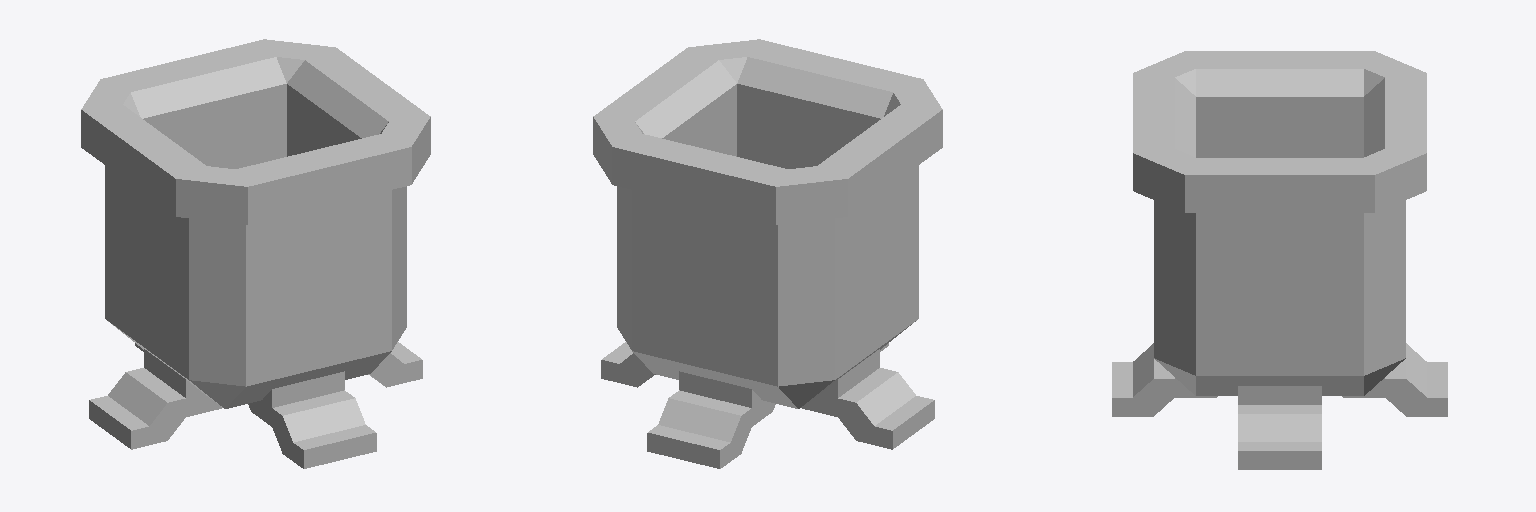
File: coloring_cauldron.obj
3 renders of one model, left to right at view 1: azimuth 30°, elevation 25°; view 2: azimuth 150°, elevation 25°; view 3: azimuth 270°, elevation 25°, orthographic.
Visible parts, largest first — view 1: COLORING_CAULDRON_Plane; view 2: COLORING_CAULDRON_Plane; view 3: COLORING_CAULDRON_Plane.
Part boxes in pixels (x1,y1,x2,y2): COLORING_CAULDRON_Plane: (81, 39, 430, 468); COLORING_CAULDRON_Plane: (593, 39, 942, 468); COLORING_CAULDRON_Plane: (1112, 51, 1447, 469).
Bounding box in the file's own units: 1 × 0.9375 × 1.